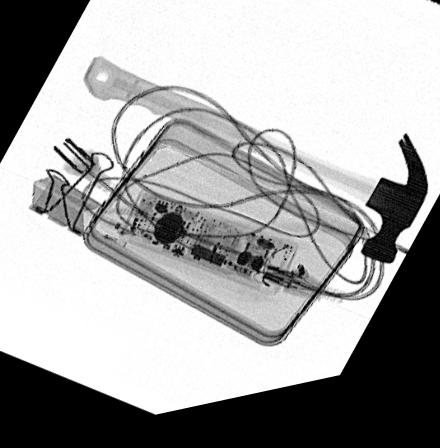Hammer: (84, 58, 429, 281)
